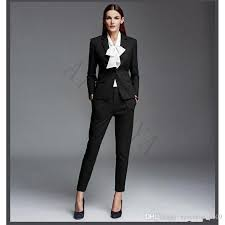F_W_pants: (74, 102, 134, 203)
F_W_suit jacket: (84, 35, 153, 99)
